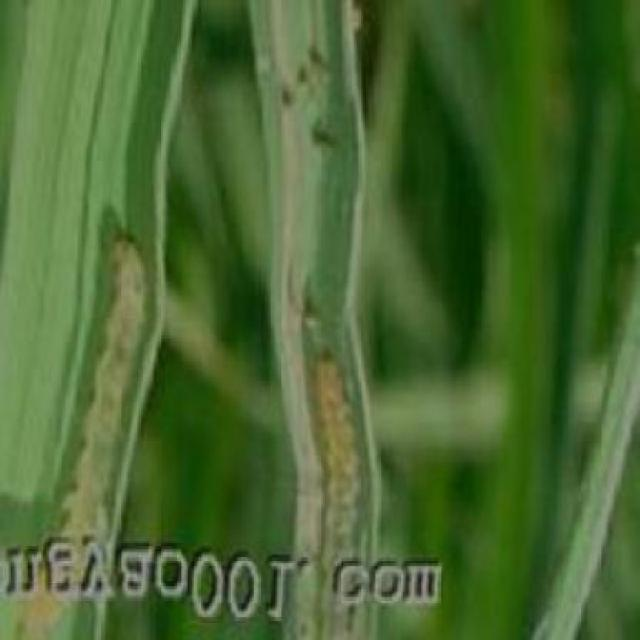leaf-folder: (269, 279, 408, 530), (62, 211, 173, 517)
